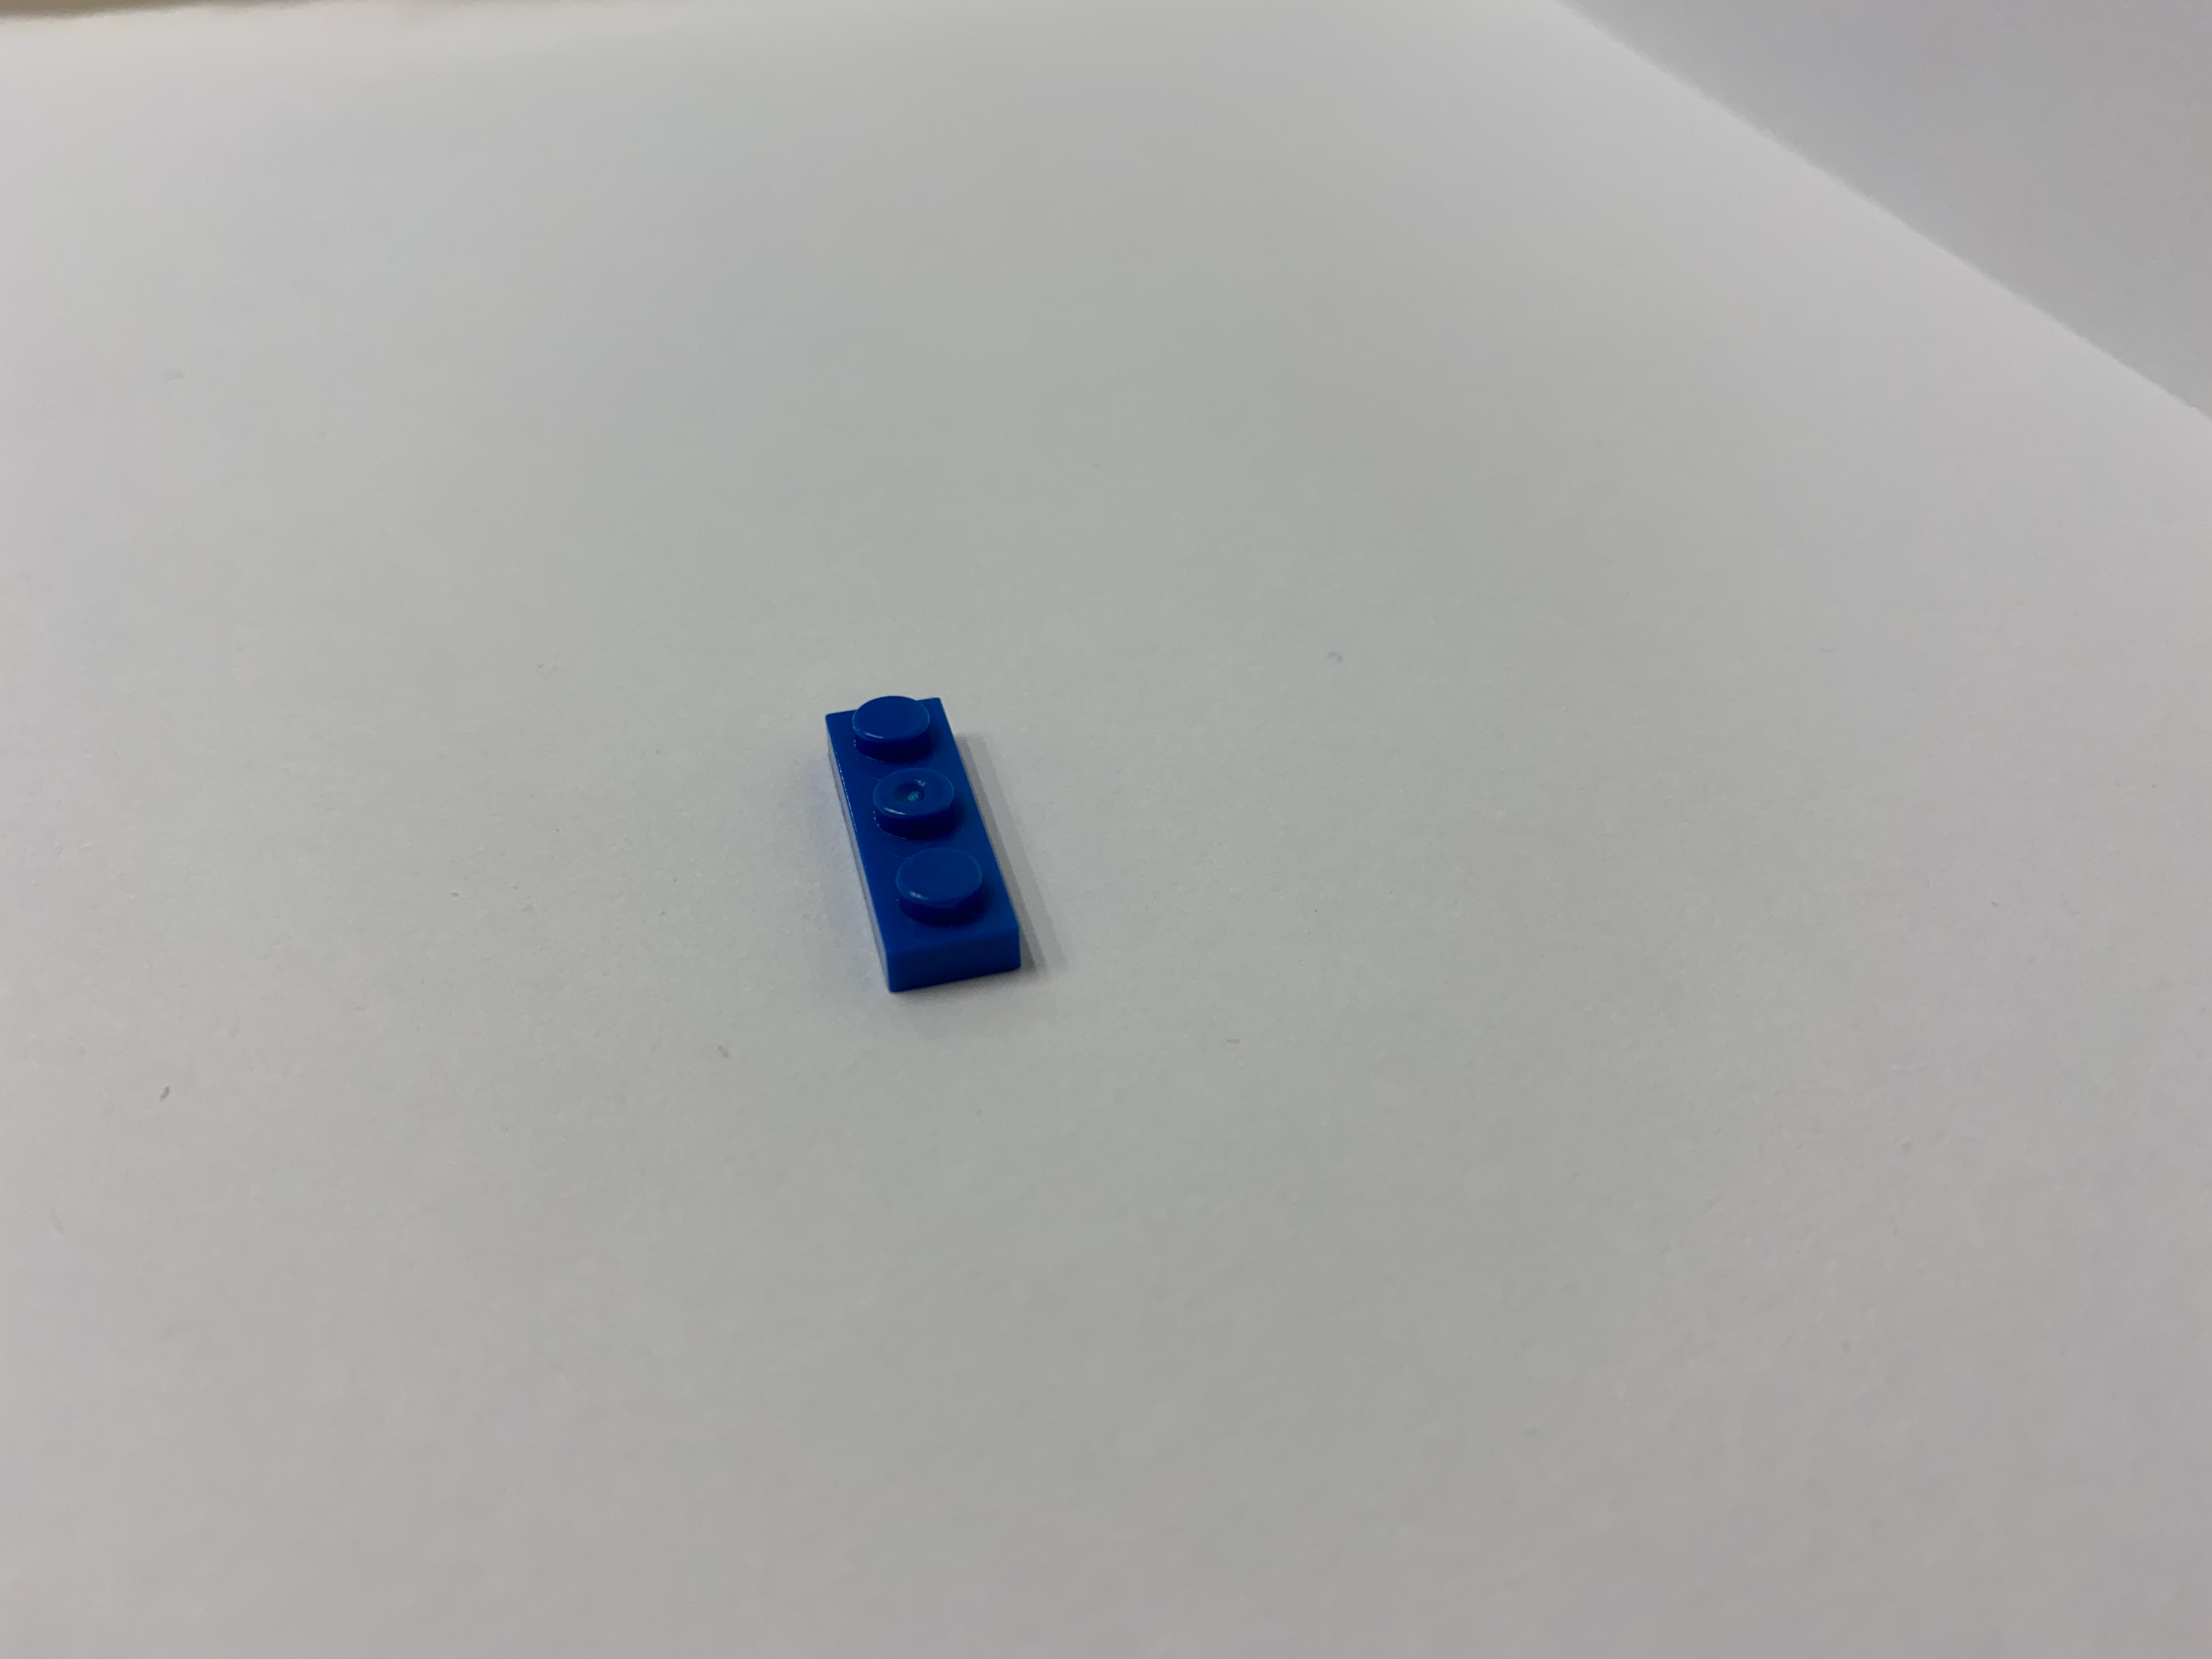car: (766, 685, 1080, 1023)
